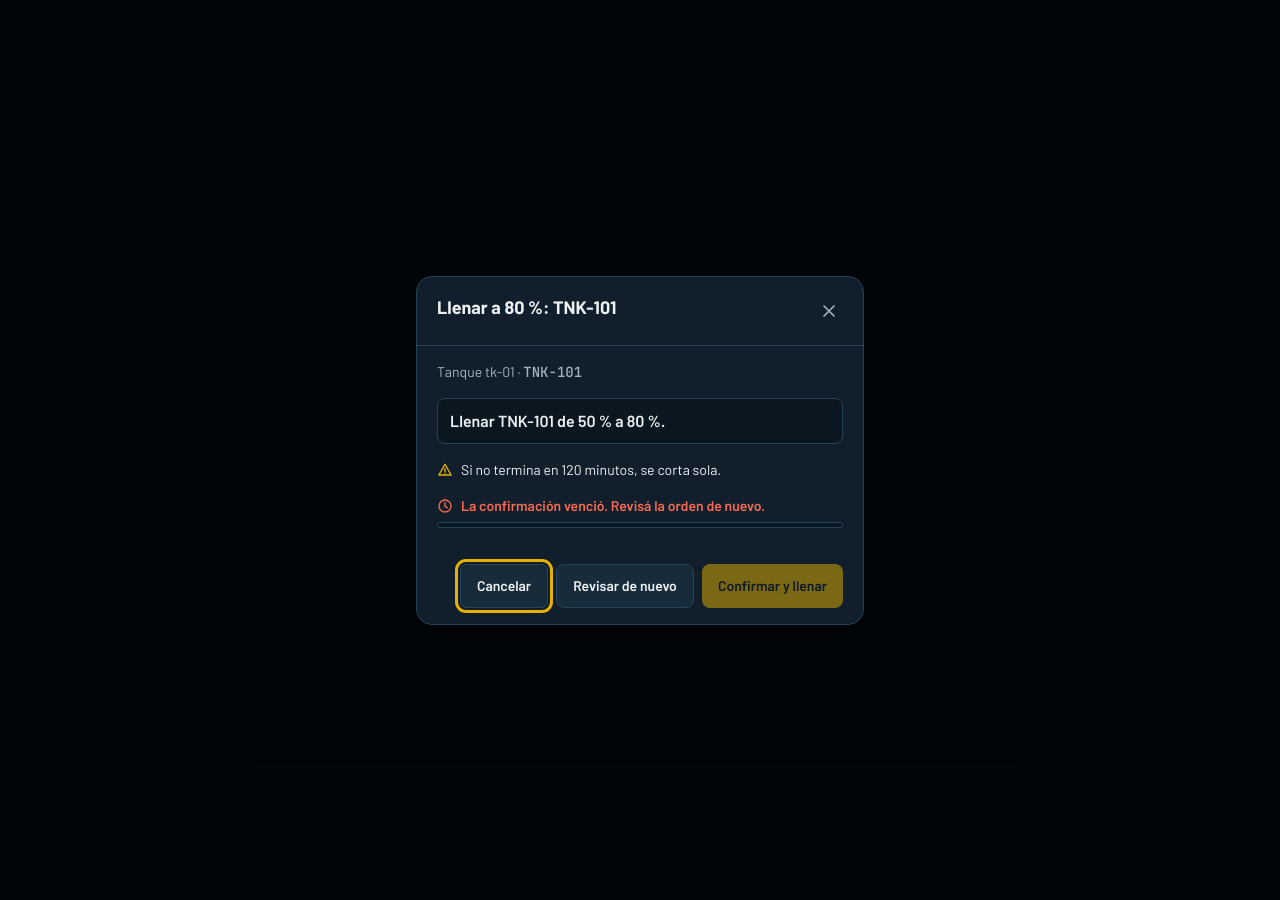
Scenario: diálogo de confirmación (dos pasos) › la cuenta regresiva llega a 0: vence y obliga a revisar de nuevo
Check: the element with test id "confirm-countdown" shows "venció", box [461,496,765,514]
Check: the button with test id "confirm-go" is disabled, box [702,564,843,608]
Click the button with test id "confirm-reload" at [625, 586], box [556,564,694,608]
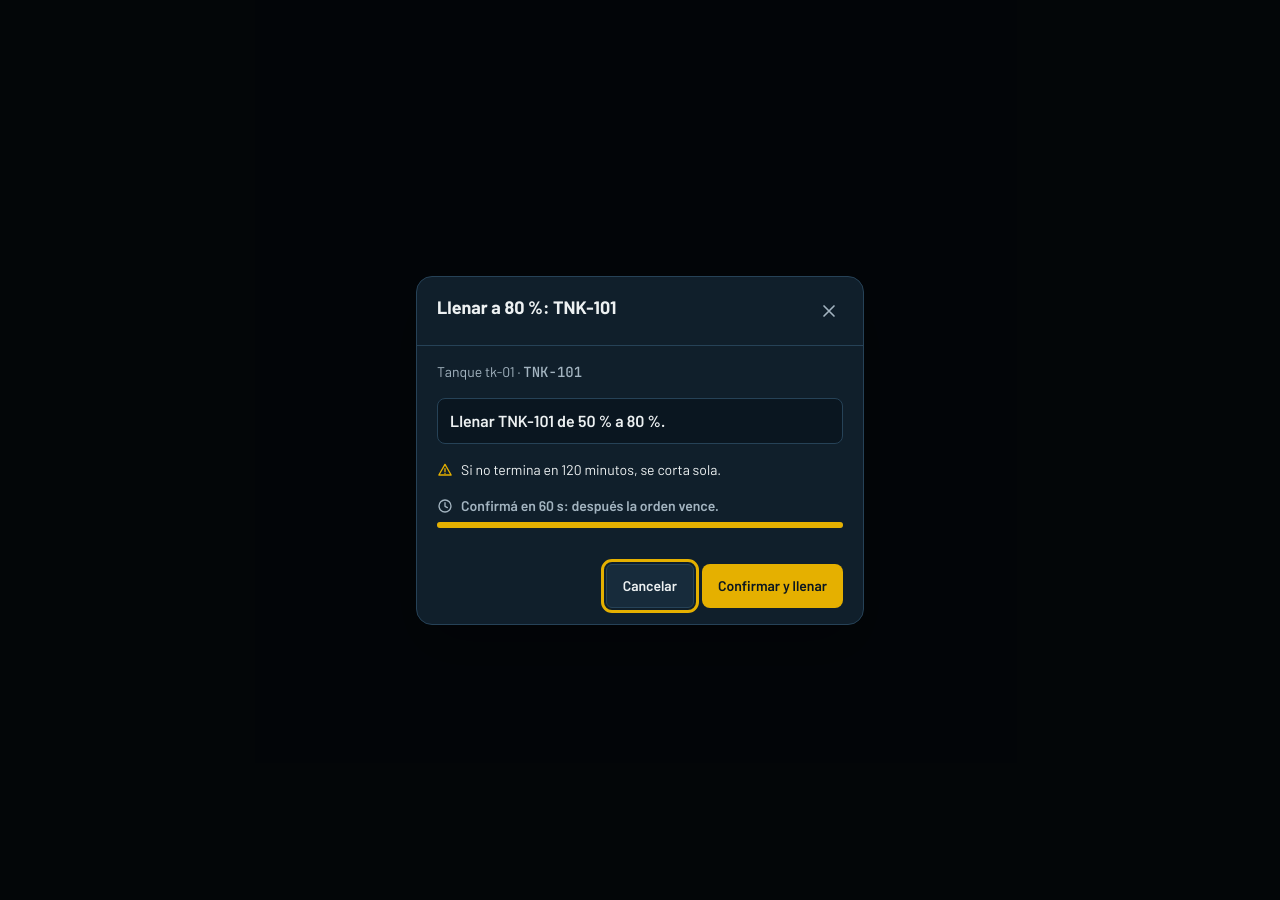
Check: the button with test id "confirm-go" is enabled, box [702,564,843,608]
